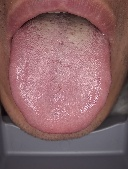tongue: (6, 26, 113, 135)
